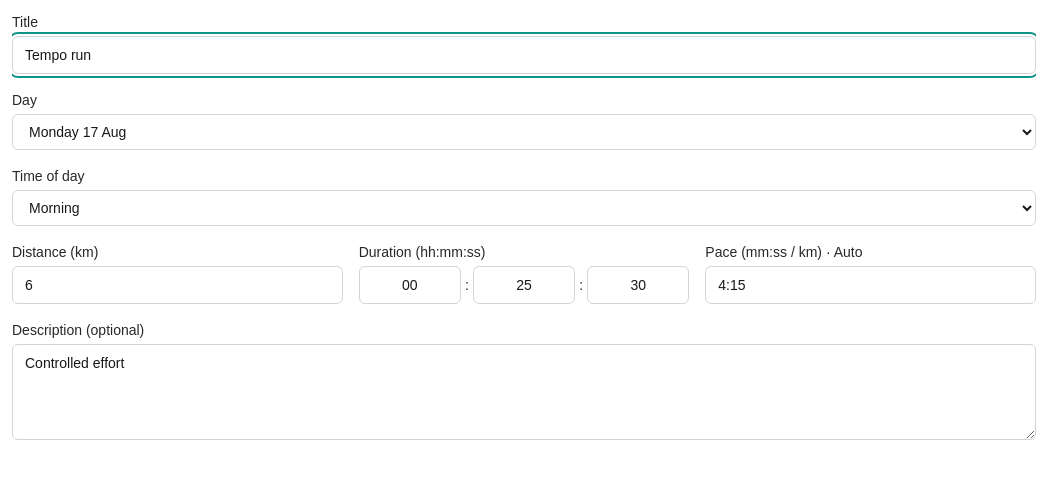
it: validates an empty title after blur
Clear the field labelled "Title" at (524, 55), box [12,36,1036,74]
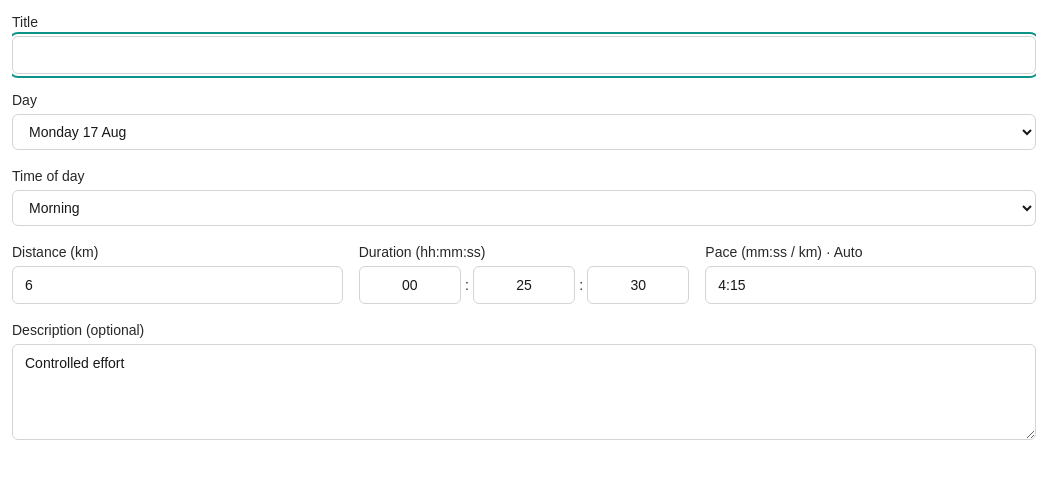
Leave the field labelled "Title", box [12,36,1036,74]
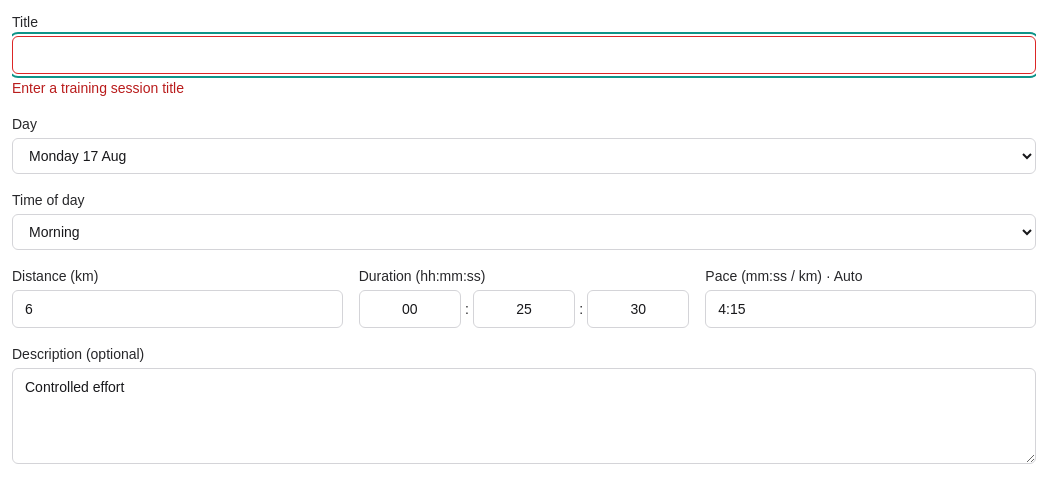
Expected: the text "Enter a training session title" is shown, [12,80,184,96]
